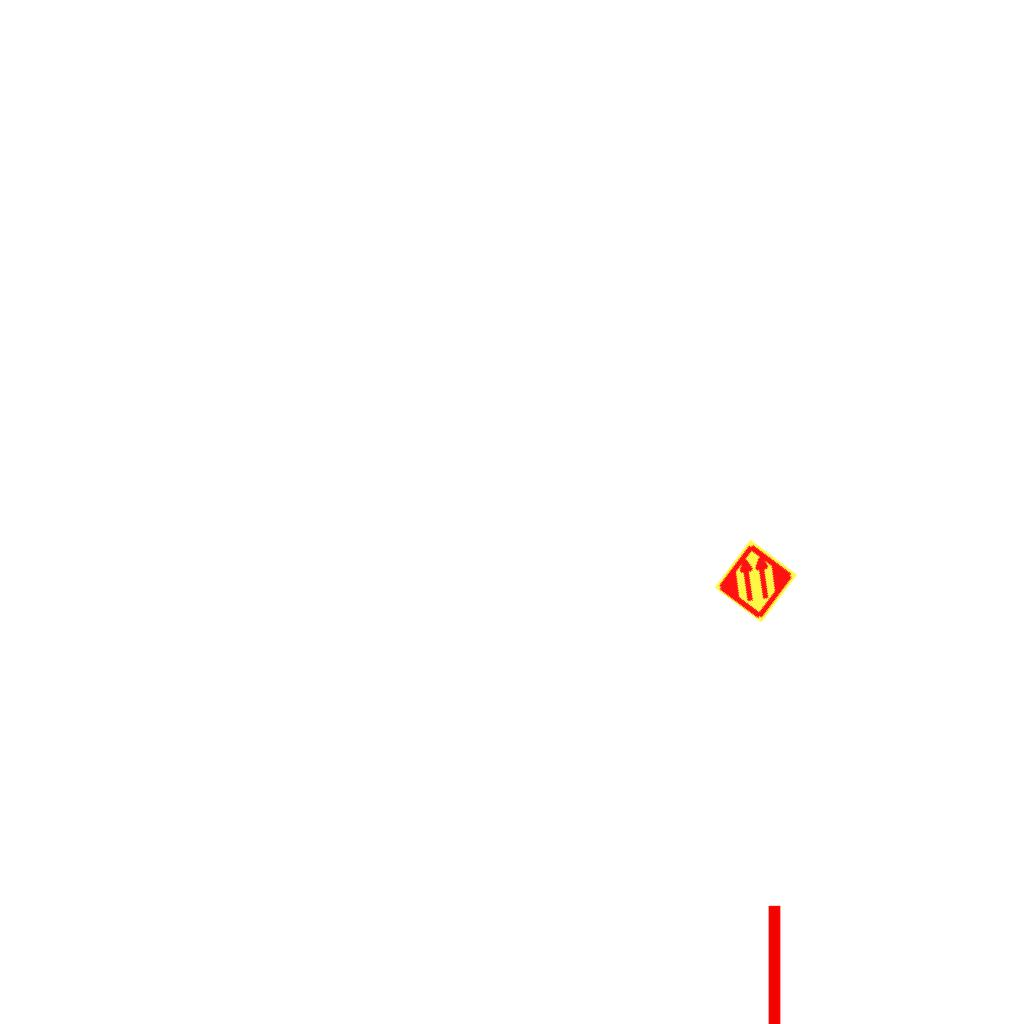ASR_Ansaugoeffnung: (749, 900, 795, 1024)
ASR_Ansaugrauchmelder: (712, 537, 800, 625)
